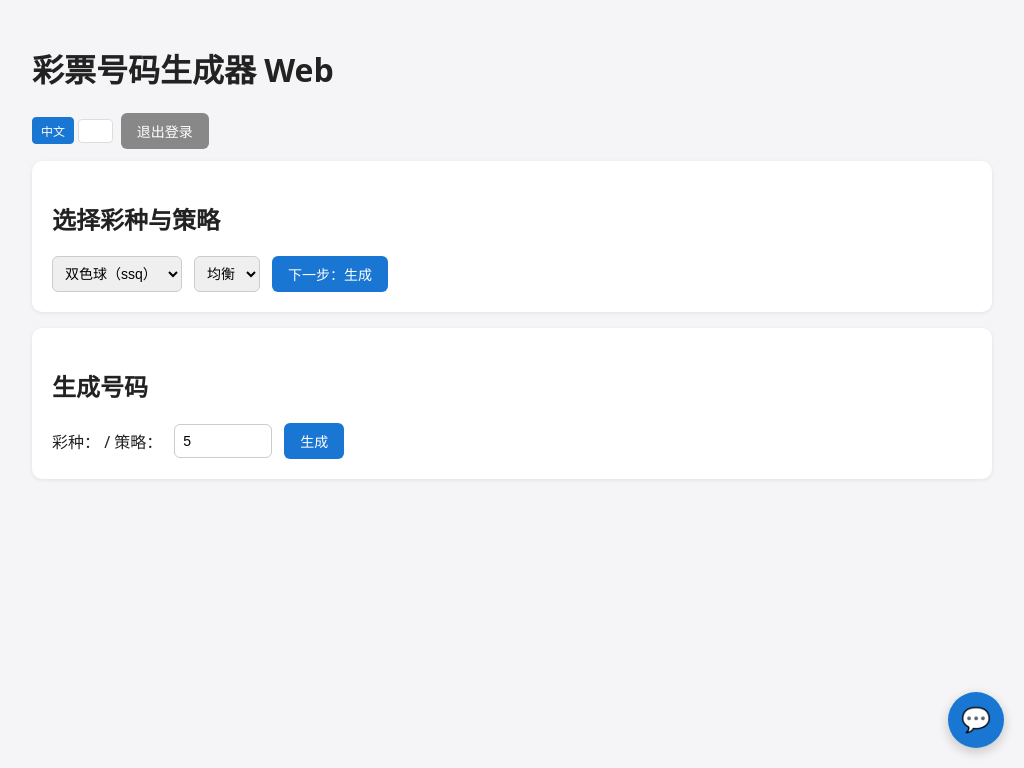
Test: App 外壳 › 退出后回到登录页并清除 token
Click the button "退出登录": (165, 131) [121,113,209,149]
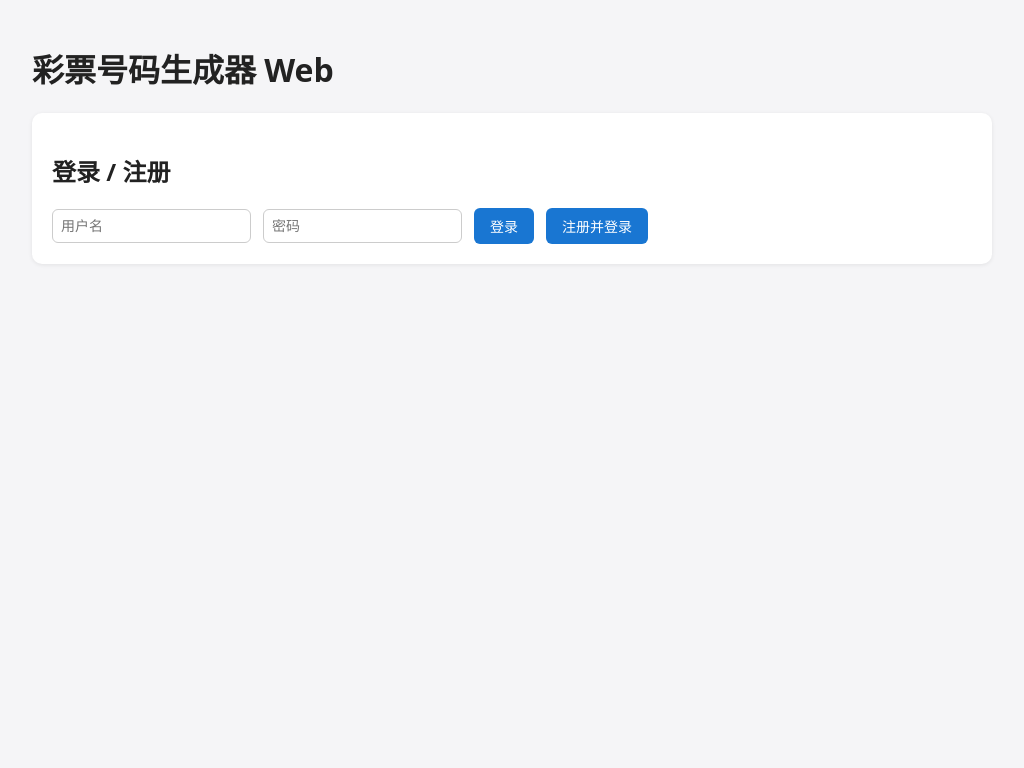
Expected: the text "登录 / 注册" is shown, [52,155,170,188]
